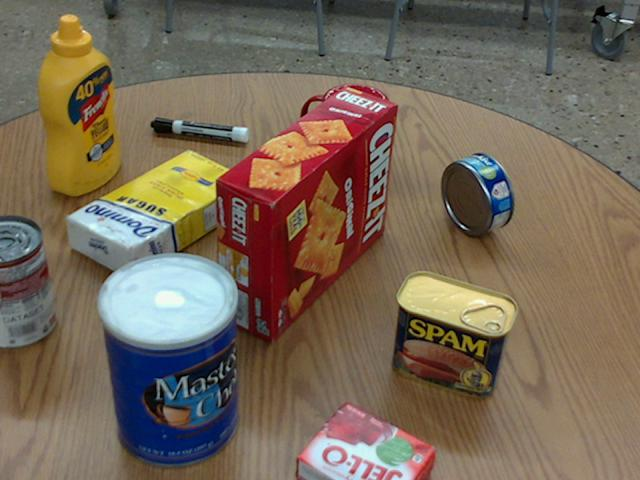cracker_box: (217, 86, 396, 339)
gelatin_box: (295, 402, 437, 479)
large_marker: (151, 116, 248, 142)
master_chef_can: (97, 253, 238, 468)
mug: (303, 84, 389, 177)
mustard_bottle: (40, 16, 119, 194)
potted_meat_can: (392, 270, 517, 397)
sugar_box: (65, 148, 247, 280)
tomato_soup_can: (0, 214, 55, 346)
tuna_fish_can: (440, 152, 513, 234)
